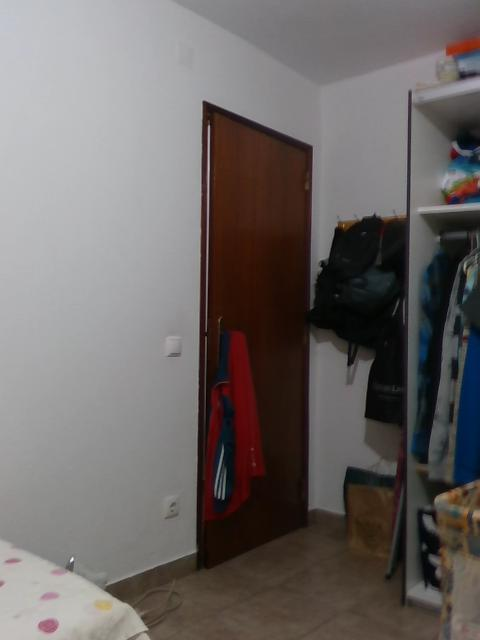door: (194, 105, 309, 567)
